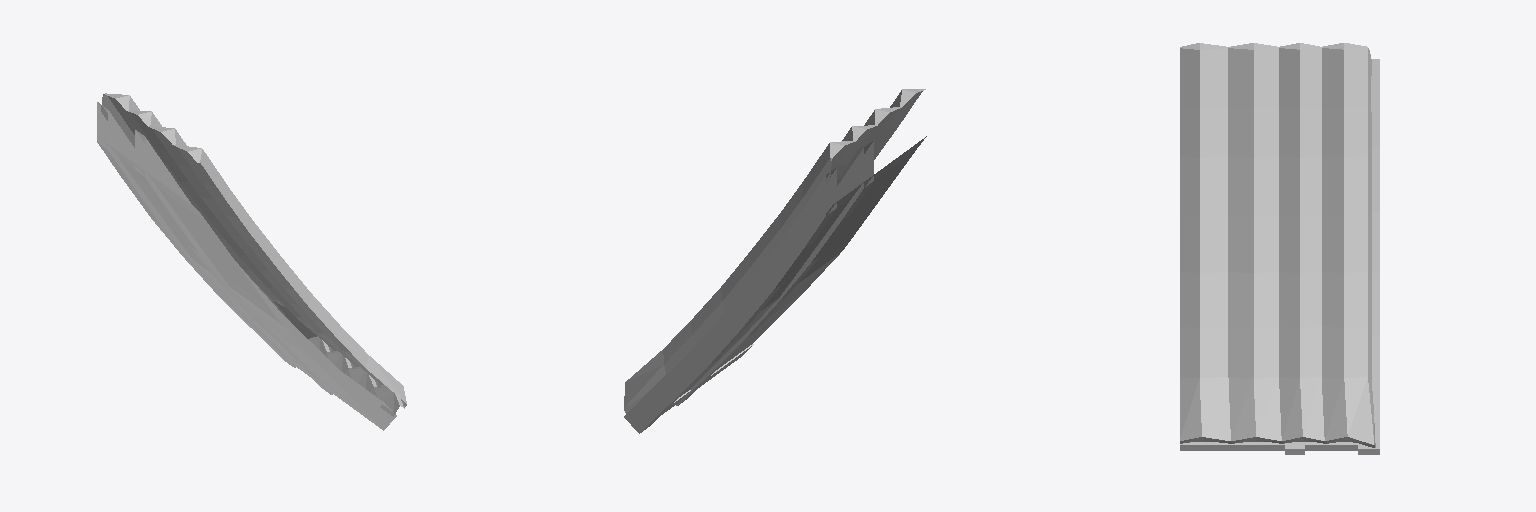
File: Roof_Modular_RoundTiles_4_R_Half.obj
3 renders of one model, left to right at view 1: azimuth 30°, elevation 25°; view 2: azimuth 150°, elevation 25°; view 3: azimuth 270°, elevation 25°, orthographic.
Visible parts, largest first — view 1: Roof_Modular_RoundTiles_4_R_Half; view 2: Roof_Modular_RoundTiles_4_R_Half; view 3: Roof_Modular_RoundTiles_4_R_Half.
Part boxes in pixels (x1,y1,x2,y2): Roof_Modular_RoundTiles_4_R_Half: (97,93,406,430); Roof_Modular_RoundTiles_4_R_Half: (624,89,926,433); Roof_Modular_RoundTiles_4_R_Half: (1180,43,1379,454).
Size of the model in its own units: 2.8 by 3.94 by 2.24.